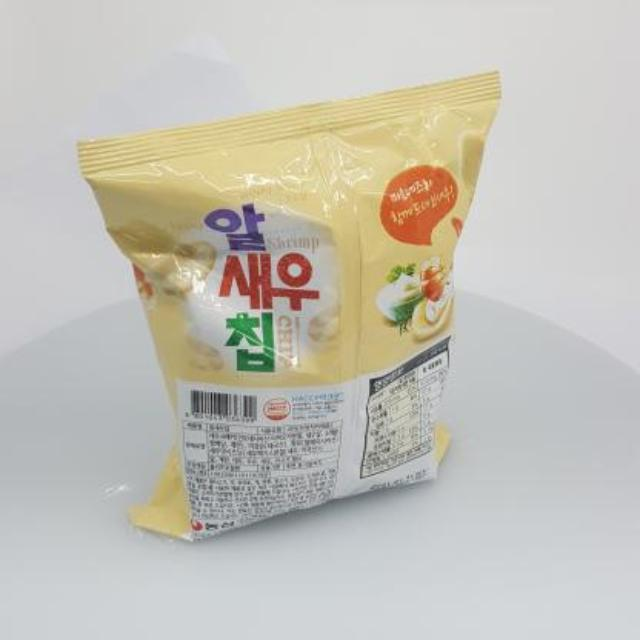snack_bag: (58, 61, 528, 556)
